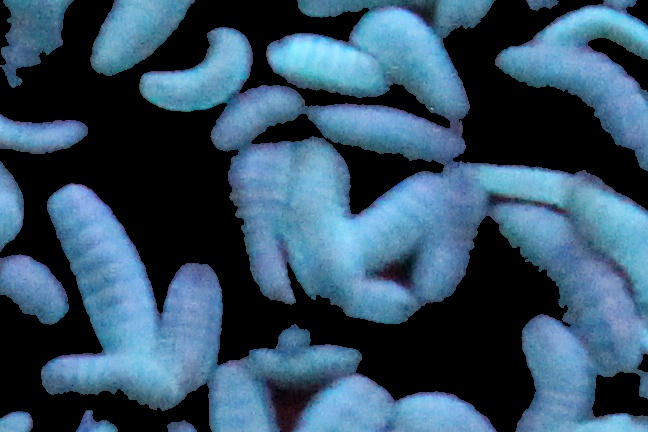larvae: (469, 155, 648, 334), (493, 200, 640, 371), (490, 34, 648, 174), (49, 186, 164, 357), (330, 170, 460, 282), (300, 96, 481, 170), (352, 5, 471, 117), (292, 143, 362, 316), (414, 162, 488, 307), (516, 308, 599, 432), (138, 30, 254, 118), (158, 255, 229, 385), (42, 350, 187, 407), (93, 1, 197, 76), (518, 4, 648, 59), (239, 347, 368, 402), (1, 86, 95, 159), (1, 1, 66, 102), (268, 36, 385, 90), (204, 88, 302, 152), (290, 374, 398, 432), (1, 257, 67, 338), (388, 384, 496, 432), (205, 360, 276, 432)
